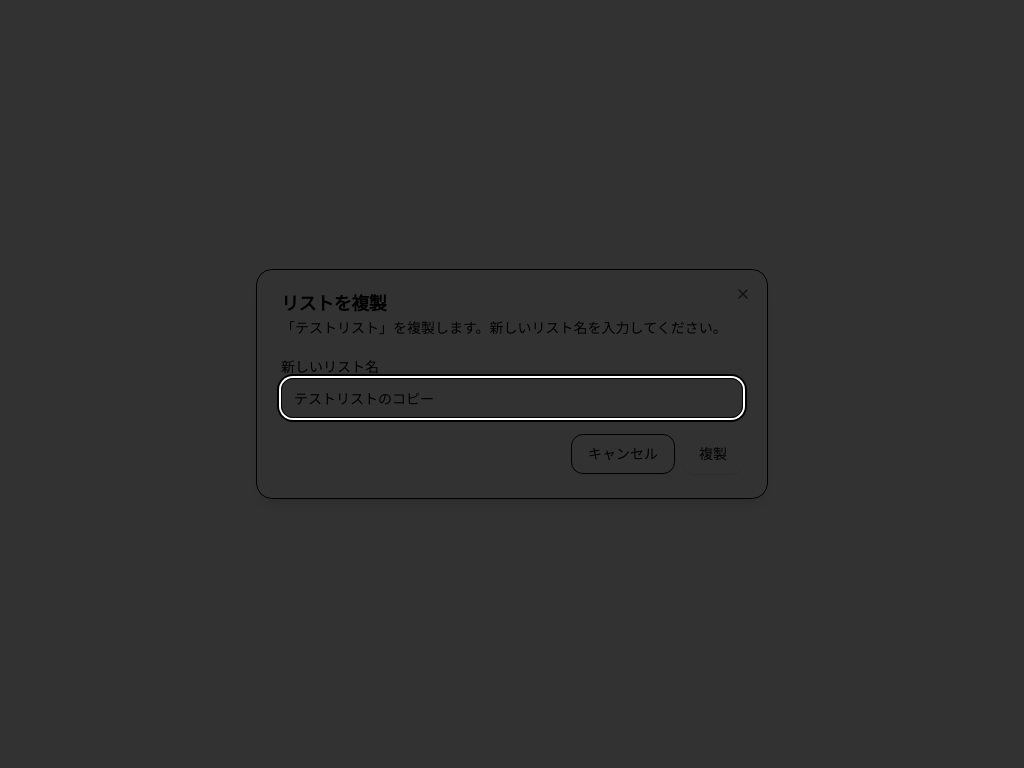
ListDuplicateDialog › 複製機能 › 複製失敗時にエラーメッセージが表示される
The image size is (1024, 768).
Replace the text in the field labelled "新しいリスト名" with "新しいリスト名". click: point(512, 398)
box: [281, 378, 743, 418]
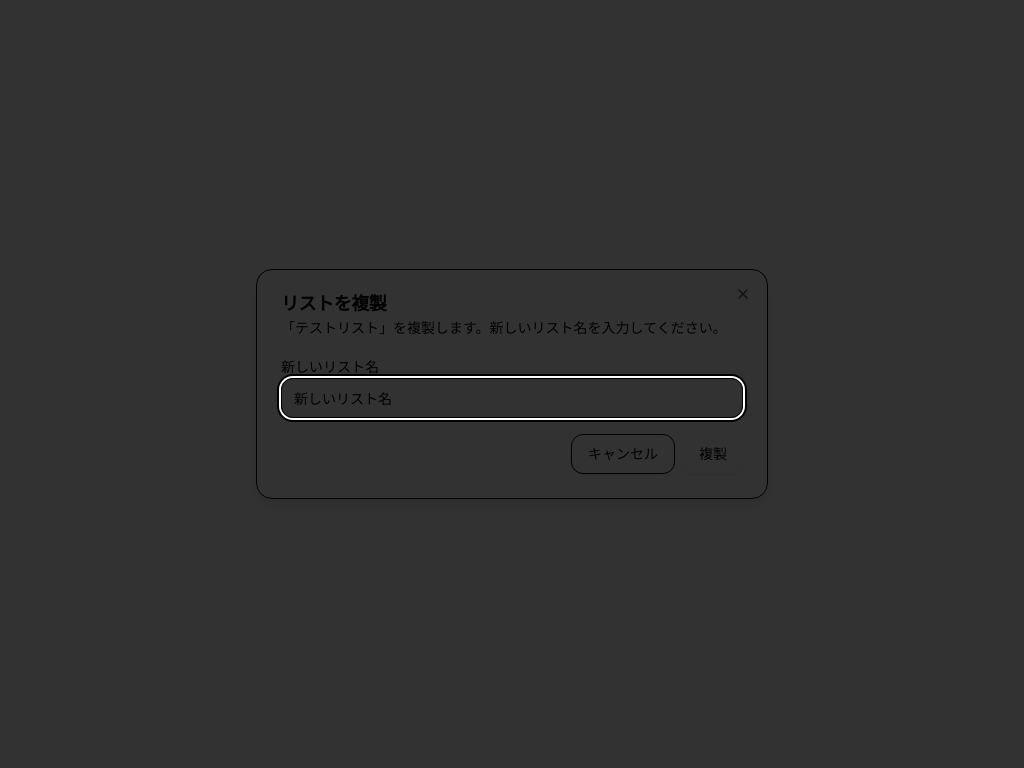
Click the button "複製". click: point(713, 454)
box: [683, 434, 743, 474]
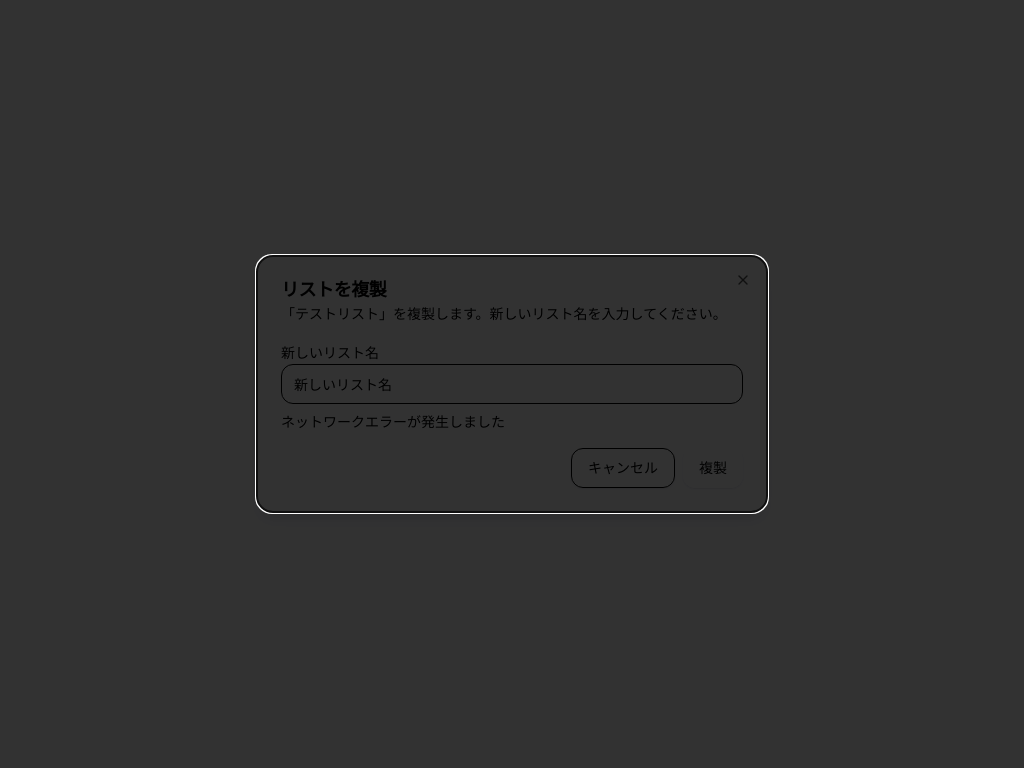
Result: the text "ネットワークエラーが発生しました" is shown at [281, 412, 505, 431]
